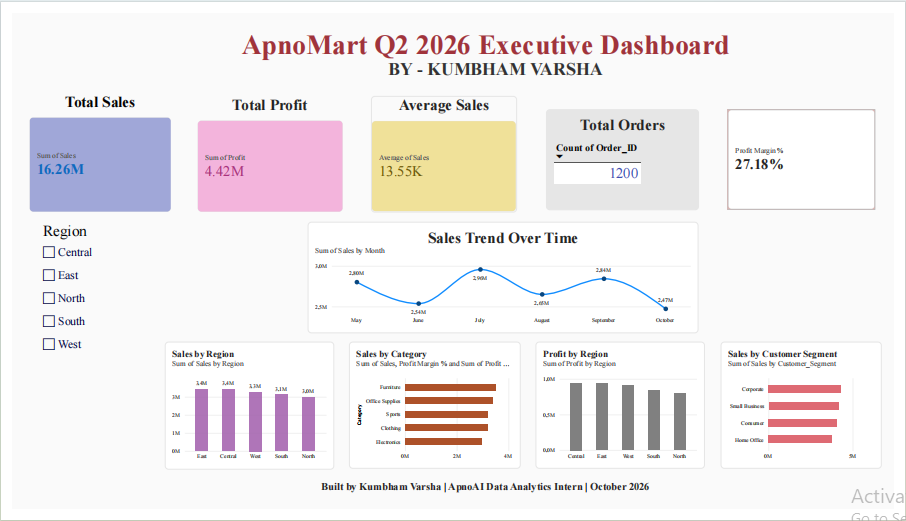

This screenshot's page, from the dashboard's own definition file:
{"tool":"powerbi","page":{"name":"Page 1","canvas":[1920,1080],"ordinal":0},"visuals":[{"type":"cardVisual","title":"Total Sales ","fields":{"Data":["Sum(apnomart-sales-data.Sales)","Sum(apnomart-sales-data.Sales)"]},"box":[38.3,174.3,308.3,259.4],"z":0},{"type":"cardVisual","title":"Total Profit","fields":{"Data":["Sum(apnomart-sales-data.Profit)"]},"box":[403.9,180.7,316.8,253],"z":1000},{"type":"cardVisual","title":"Average Sales ","fields":{"Data":["Avg(apnomart-sales-data.Sales)"]},"box":[782.4,180.7,316.8,253],"z":2000},{"type":"tableEx","title":"Total Orders ","fields":{"Values":["apnomart-sales-data.Order_ID"]},"box":[1162.9,210.5,331.7,219],"z":3000},{"type":"clusteredColumnChart","title":"Sales by Region ","fields":{"Category":["apnomart-sales-data.Region"],"Y":["Sum(apnomart-sales-data.Sales)"]},"box":[333.1,715.7,367.9,278.2],"z":4000},{"type":"clusteredBarChart","title":"Sales by Category ","fields":{"Category":["apnomart-sales-data.Category"],"Y":["Sum(apnomart-sales-data.Sales)"]},"box":[734,715.7,373.4,276.4],"z":5000},{"type":"clusteredColumnChart","title":"Profit by Region ","fields":{"Category":["apnomart-sales-data.Region"],"Y":["Sum(apnomart-sales-data.Profit)"]},"box":[1140.3,715.7,367.9,276.4],"z":6000},{"type":"clusteredBarChart","title":"Sales by Customer Segment ","fields":{"Category":["apnomart-sales-data.Customer_Segment"],"Y":["Sum(apnomart-sales-data.Sales)"]},"box":[1543,715.7,349.6,276.4],"z":7000},{"type":"slicer","fields":{"Values":["apnomart-sales-data.Region"]},"box":[59.5,455,250.9,306.1],"z":8000},{"type":"cardVisual","fields":{"Data":["apnomart-sales-data.Profit Margin %"]},"box":[1558.3,210.5,321,219],"z":9000},{"type":"textbox","title":"ApnoMart Q2 2026 Executive Dashboard","box":[208.7,34.8,1647.5,80],"z":10000},{"type":"textbox","title":"BY - KUMBHAM VARSHA ","box":[207.5,115,1648,150],"z":10001},{"type":"lineChart","title":"Sales Trend Over Time","fields":{"Category":["apnomart-sales-data.Order_Date.Variation.Date Hierarchy.Month"],"Y":["Sum(apnomart-sales-data.Sales)"]},"box":[644.2,455,850,242.5],"z":10002},{"type":"textbox","title":"Built by Kumbham Varsha | ApnoAI Data Analytics Intern | October 2026","box":[97.5,1025,1722.5,37.5],"z":10004}]}

Visuals, with their boxes in screenshot pixels (x1, y1, x2, y2), scaled from the page's 1920x1080 canvas onto the 906x521 screenshot:
"Total Sales " cardVisual: [left=18, top=84, right=164, bottom=209]
"Total Profit" cardVisual: [left=191, top=87, right=340, bottom=209]
"Average Sales " cardVisual: [left=369, top=87, right=519, bottom=209]
"Total Orders " tableEx: [left=549, top=102, right=705, bottom=207]
"Sales by Region " clusteredColumnChart: [left=157, top=345, right=331, bottom=479]
"Sales by Category " clusteredBarChart: [left=346, top=345, right=523, bottom=479]
"Profit by Region " clusteredColumnChart: [left=538, top=345, right=712, bottom=479]
"Sales by Customer Segment " clusteredBarChart: [left=728, top=345, right=893, bottom=479]
slicer - apnomart-sales-data.Region: [left=28, top=219, right=146, bottom=367]
cardVisual - apnomart-sales-data.Profit Margin %: [left=735, top=102, right=887, bottom=207]
"ApnoMart Q2 2026 Executive Dashboard" textbox: [left=98, top=17, right=876, bottom=55]
"BY - KUMBHAM VARSHA " textbox: [left=98, top=55, right=876, bottom=128]
"Sales Trend Over Time" lineChart: [left=304, top=219, right=705, bottom=336]
"Built by Kumbham Varsha | ApnoAI Data Analytics Intern | October 2026" textbox: [left=46, top=494, right=859, bottom=513]
